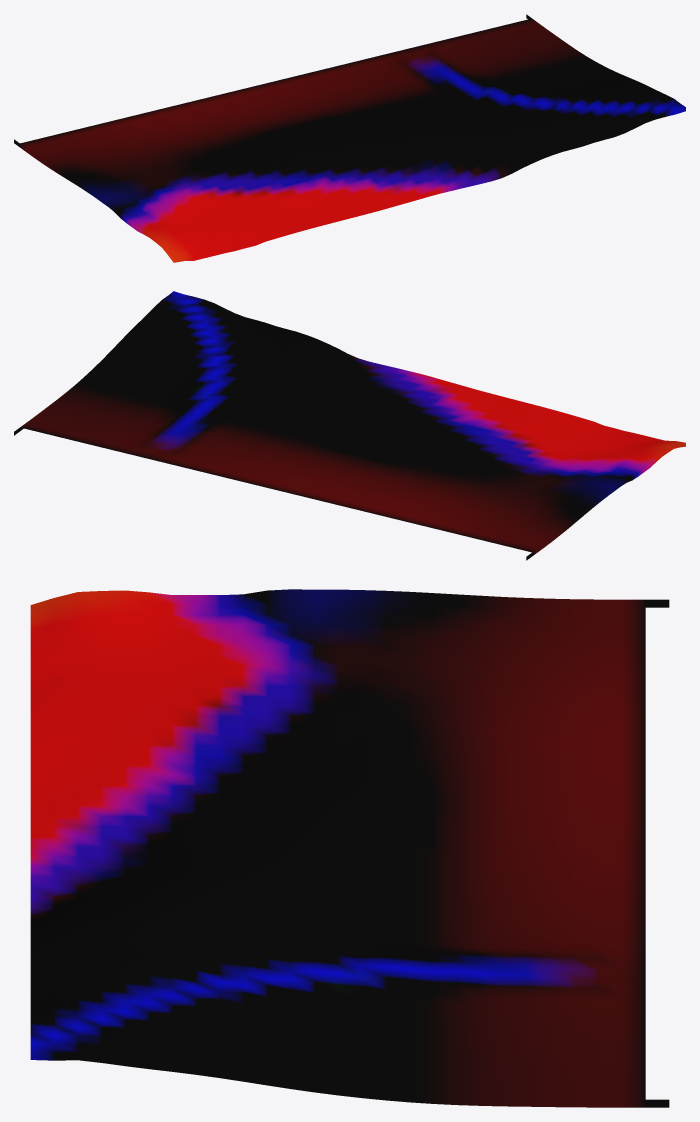
File: coast_12_13.glb
The picture shows the model from 3 angles, top to bottom: view 1: azimuth 30°, elevation 25°; view 2: azimuth 150°, elevation 25°; view 3: azimuth 270°, elevation 25°; orthographic projection. The views are drawn at different scales.
Visible parts, largest first — view 1: terrain; view 2: terrain; view 3: terrain.
Part boxes in pixels (box(x1,y1,x2,y2)): terrain: box(14, 14, 685, 262); terrain: box(14, 291, 685, 560); terrain: box(30, 589, 669, 1107).
Size of the model in its own units: 200 by 12.64 by 108.
